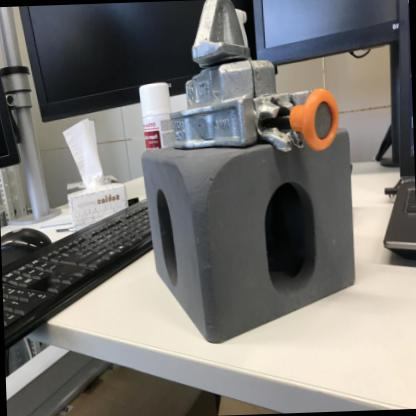CornerCasting: (136, 131, 362, 352)
Twistlock: (156, 0, 343, 163)
